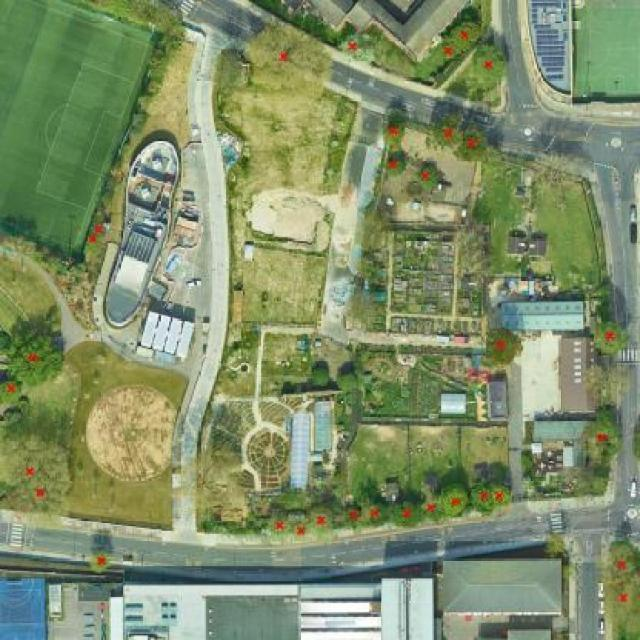tree: (238, 12, 338, 105), (0, 317, 71, 392), (3, 474, 88, 535), (0, 426, 75, 485), (600, 569, 640, 638), (475, 319, 528, 370), (585, 400, 630, 451), (587, 310, 630, 359), (445, 8, 488, 55), (446, 122, 494, 164), (467, 42, 511, 86), (334, 27, 381, 68), (426, 105, 466, 153), (459, 478, 496, 524), (431, 482, 472, 523), (373, 110, 413, 150), (422, 33, 468, 67), (384, 499, 427, 535), (373, 145, 413, 182), (604, 535, 640, 576), (410, 157, 445, 198), (257, 505, 291, 543), (305, 500, 337, 538), (84, 544, 116, 581), (410, 492, 445, 523), (336, 499, 367, 532), (490, 475, 516, 514), (282, 516, 313, 547), (363, 496, 388, 532), (81, 220, 114, 243), (0, 377, 26, 405), (79, 232, 103, 256), (0, 324, 15, 358)
